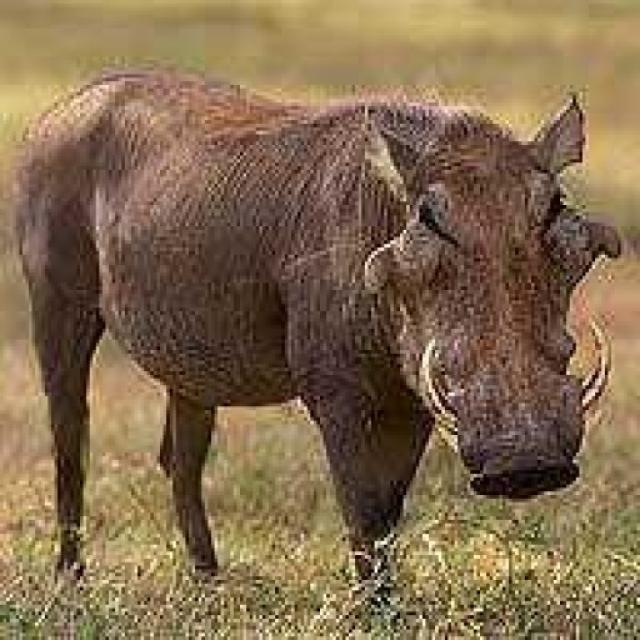pig: (62, 30, 600, 570)
